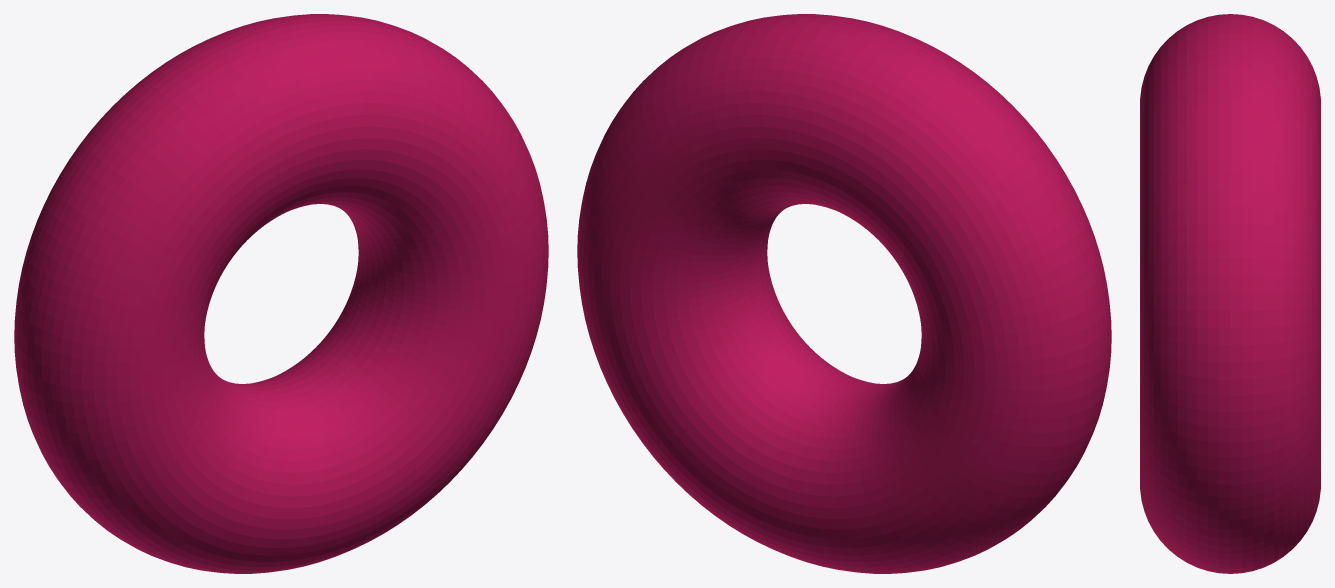
The picture shows the model from 3 angles, left to right: view 1: azimuth 30°, elevation 25°; view 2: azimuth 150°, elevation 25°; view 3: azimuth 270°, elevation 25°; orthographic projection. The views are drawn at different scales.
Visible parts, largest first — view 1: world; view 2: world; view 3: world.
Boxes of the visible parts, x1,y1,x2,y2 form: world: (14, 14, 548, 573); world: (577, 14, 1111, 573); world: (1140, 14, 1320, 573).
Size of the model in its own units: 22.67 by 22.67 by 7.32.
